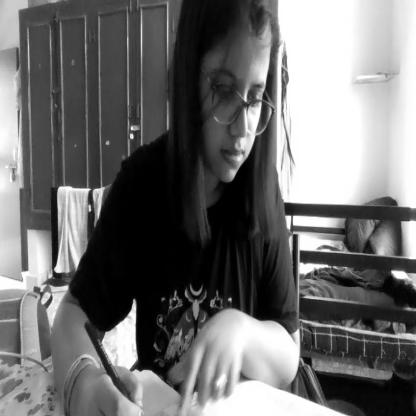Distracted: (182, 0, 286, 202)
